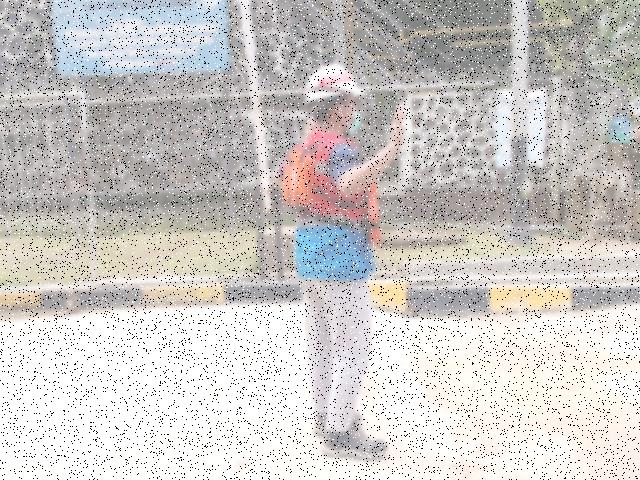helmet: (297, 61, 367, 106)
mask: (340, 104, 363, 135)
safety-shoes: (319, 428, 394, 464), (309, 399, 363, 437)
vest: (276, 148, 386, 251)
